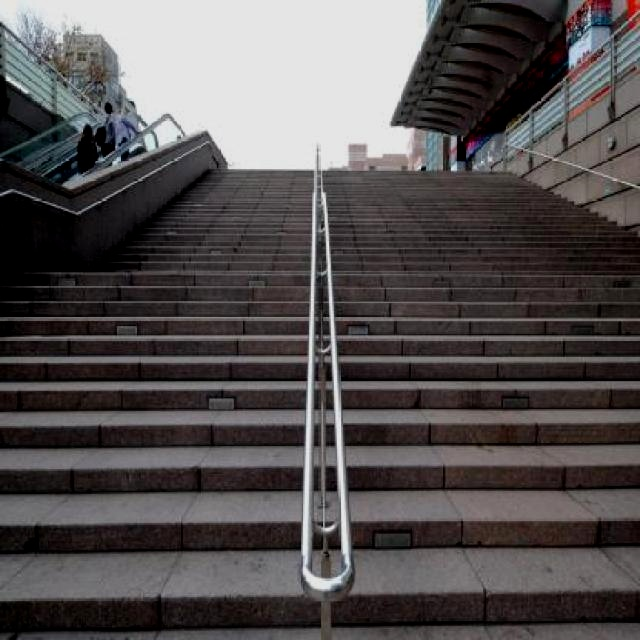stair: (0, 164, 640, 640)
